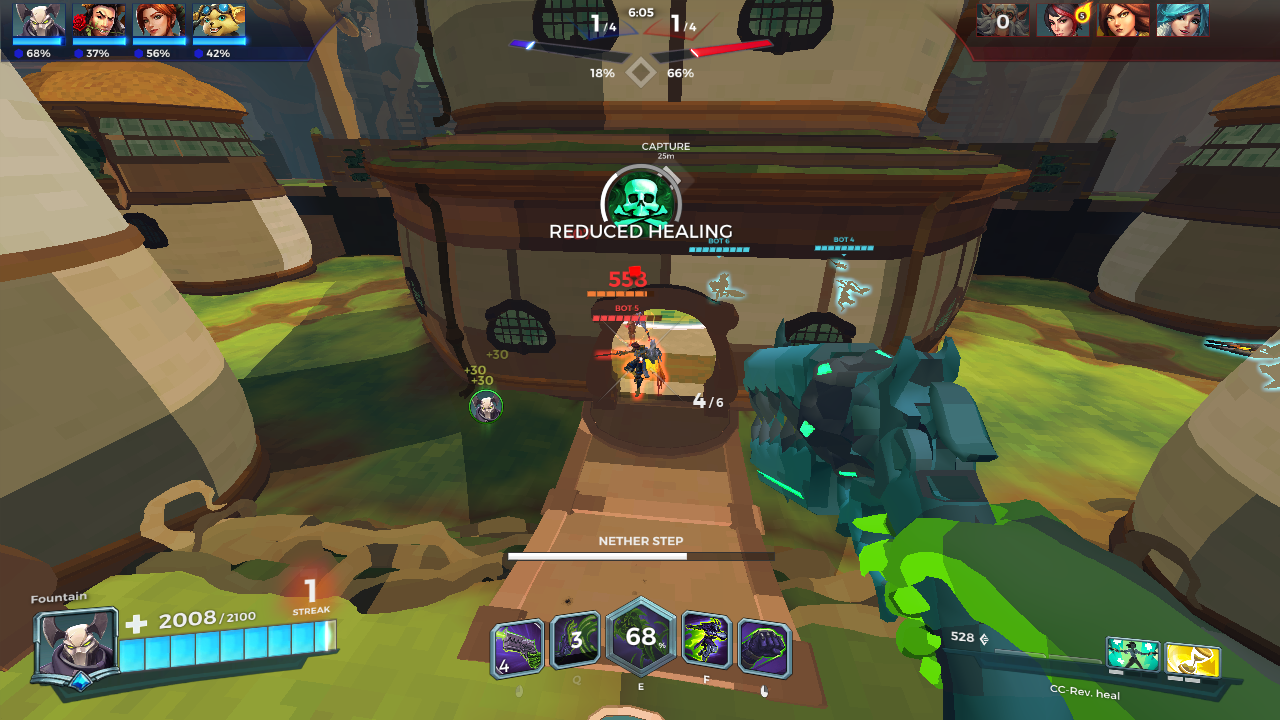model: (594, 339, 668, 407), (614, 300, 653, 355)
